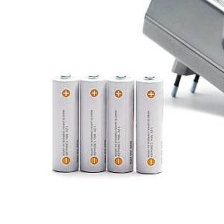battery: (132, 72, 165, 177), (48, 71, 81, 174), (76, 74, 109, 176), (105, 73, 136, 177)
